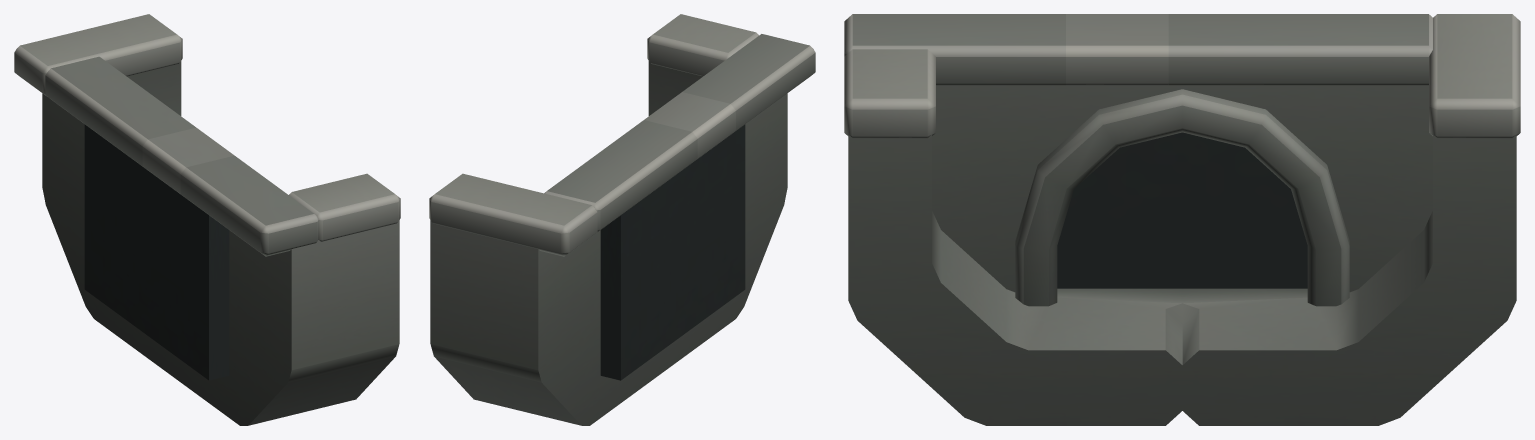
File: canal_wall_section_tunnel.fbx
3 renders of one model, left to right at view 1: azimuth 30°, elevation 25°; view 2: azimuth 150°, elevation 25°; view 3: azimuth 270°, elevation 25°, orthographic. The views are drawn at different scales.
Visible parts, largest first — view 1: canal_wall_section_tunnel; view 2: canal_wall_section_tunnel; view 3: canal_wall_section_tunnel.
Boxes of the visible parts, left/top/right/bottom form: canal_wall_section_tunnel: left=14, top=14, right=400, bottom=425; canal_wall_section_tunnel: left=429, top=14, right=815, bottom=425; canal_wall_section_tunnel: left=844, top=14, right=1520, bottom=425.
Size of the model in its own units: 260 by 430 by 810.
